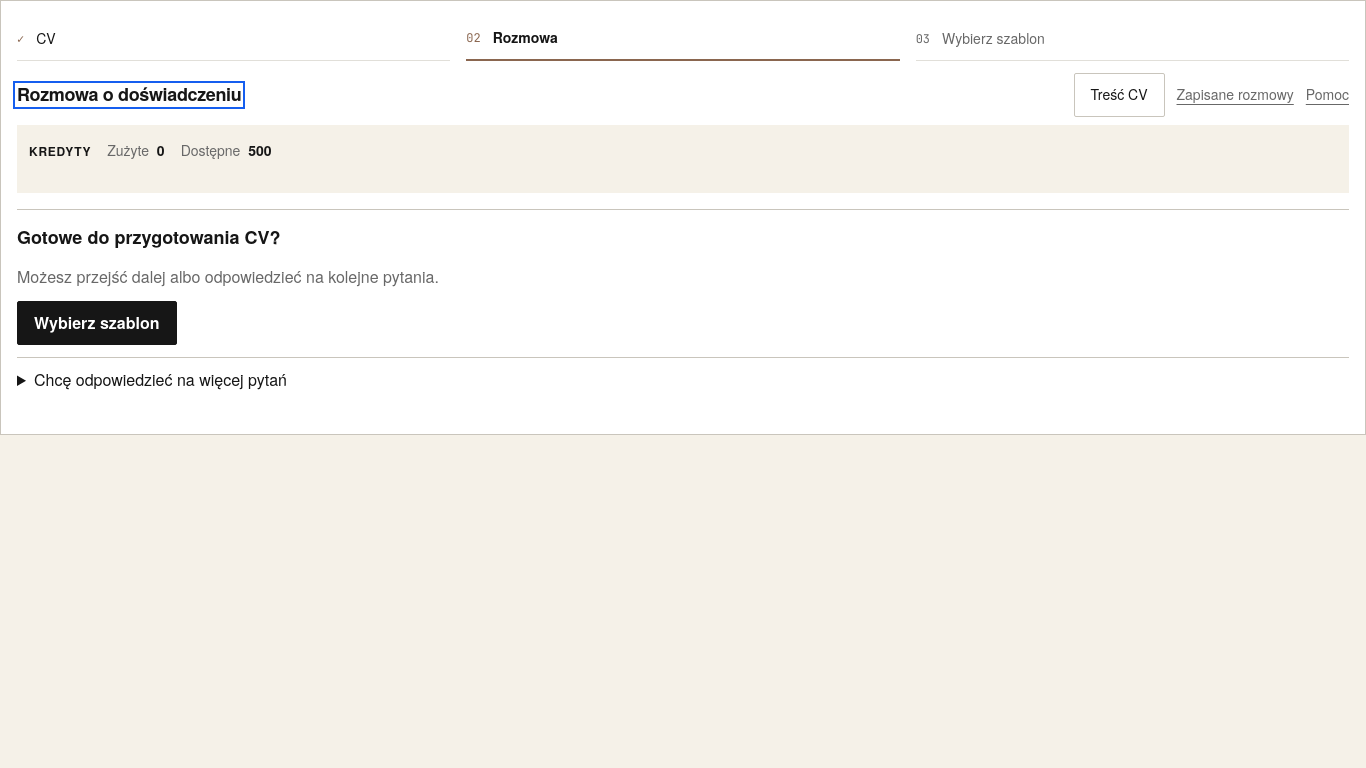
interview task navigation › prioritises preparation at the round boundary without requesting another question
Click the button "Wybierz szablon".
click(97, 323)  # box left=17, top=301, right=176, bottom=345
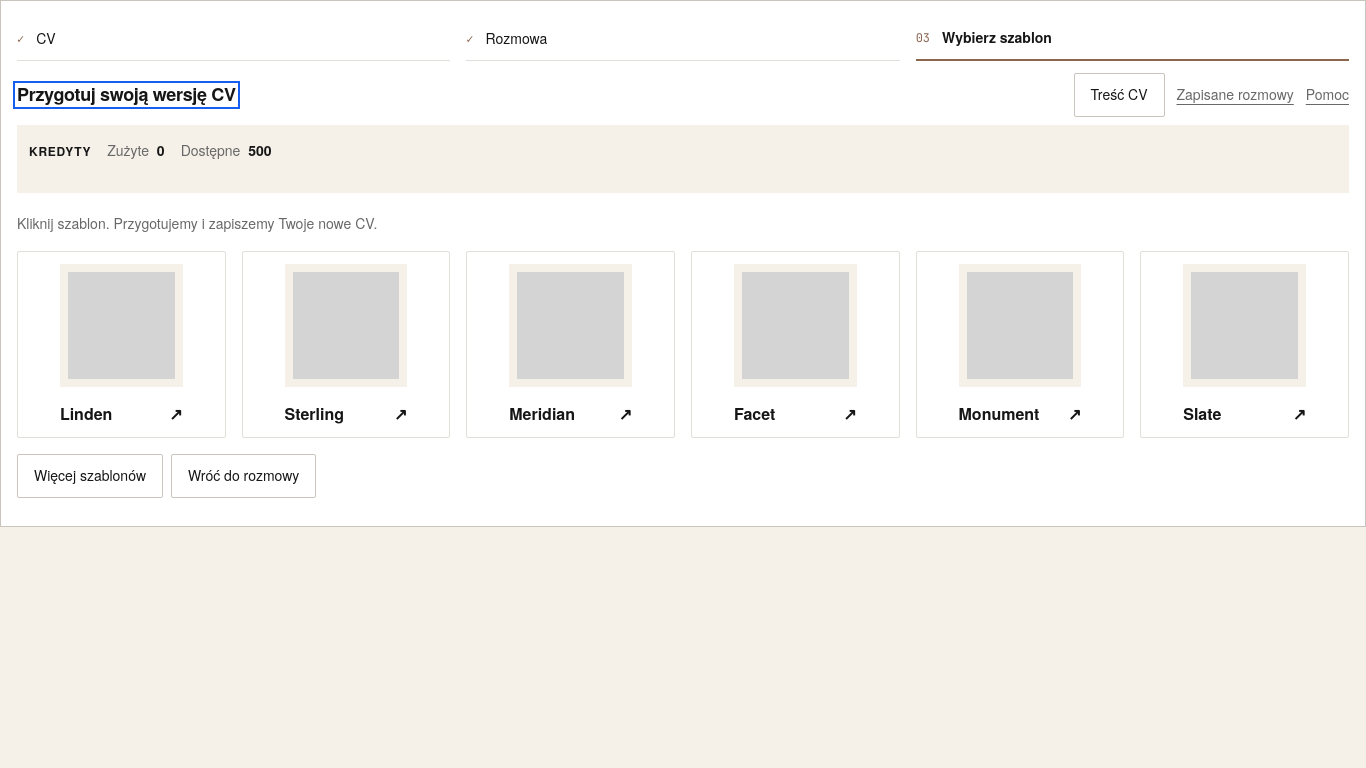
Check: the button with aria-label "Utwórz CV · Linden" is enabled, box left=17, top=251, right=226, bottom=438
